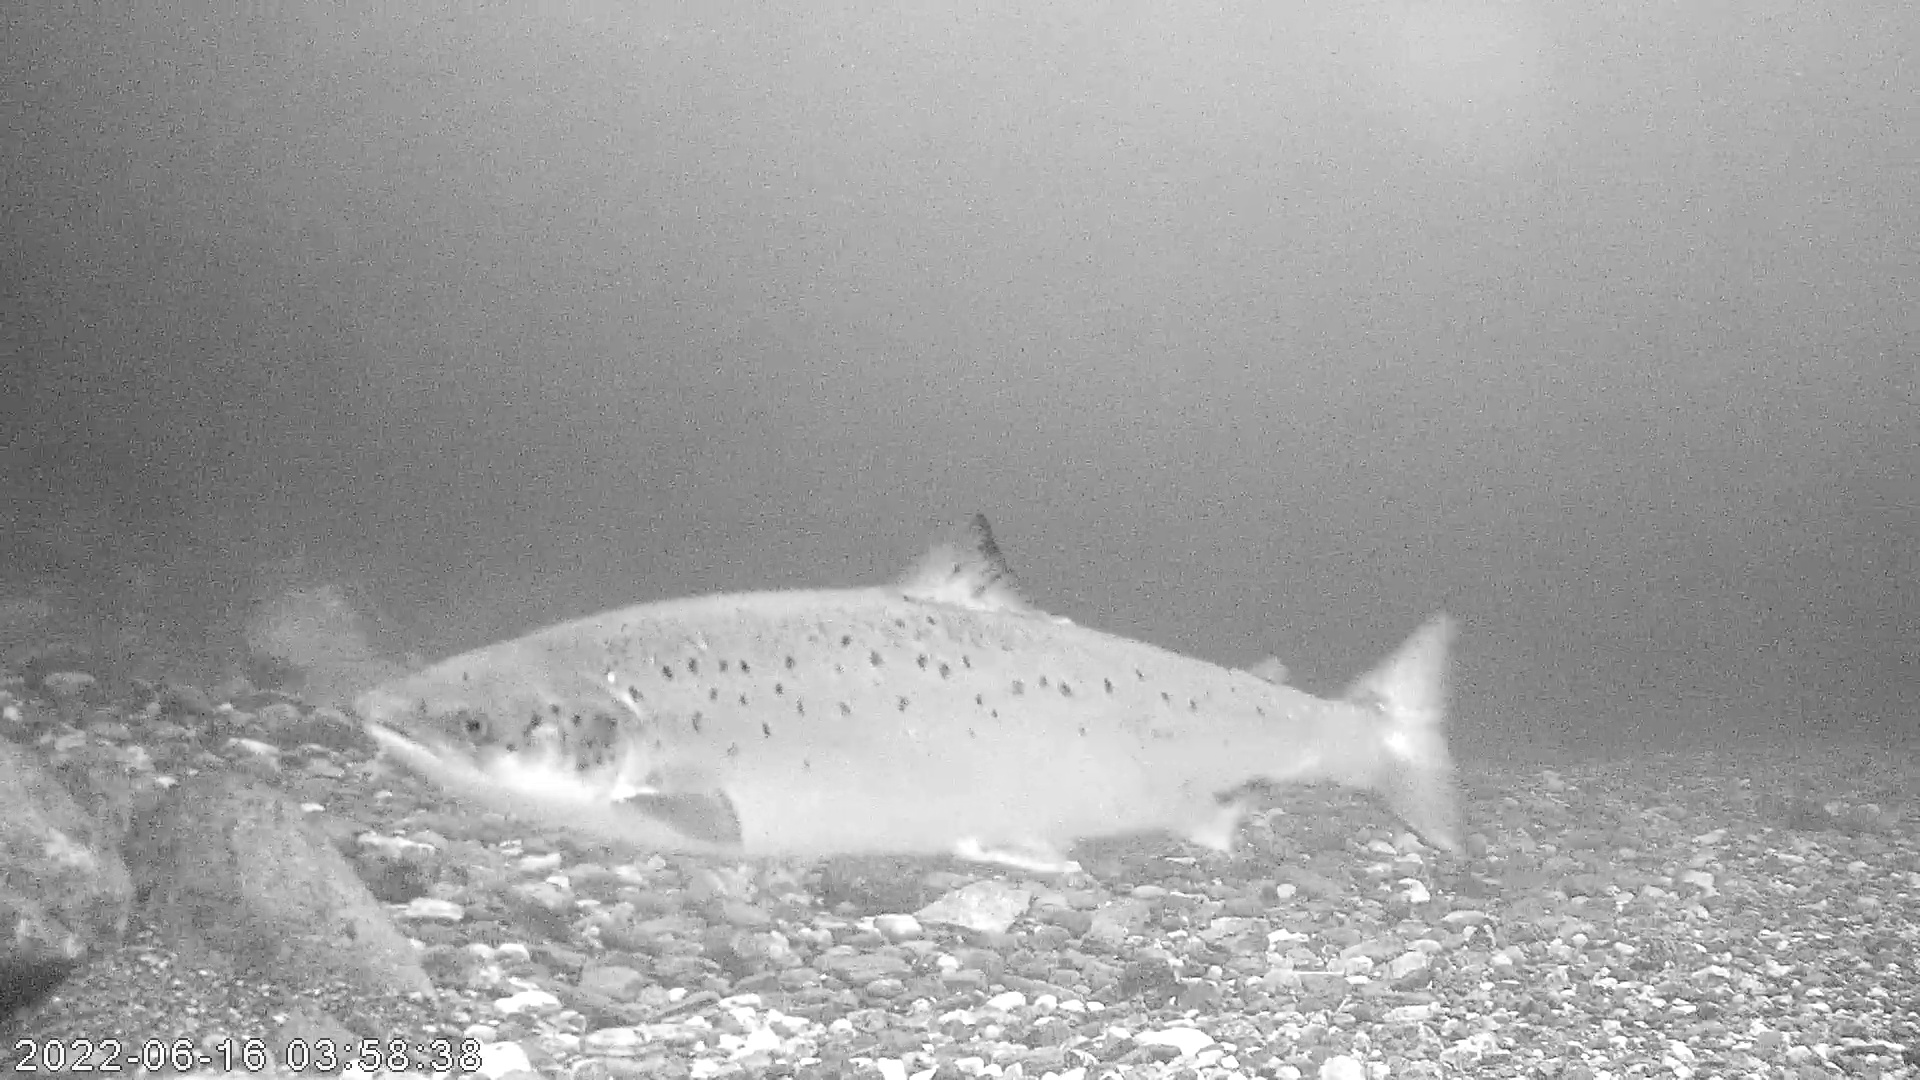salmon: (353, 508, 1466, 876)
